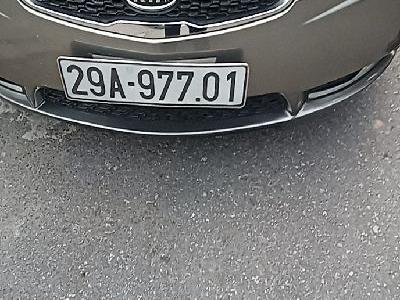lisence: (56, 55, 251, 112)
